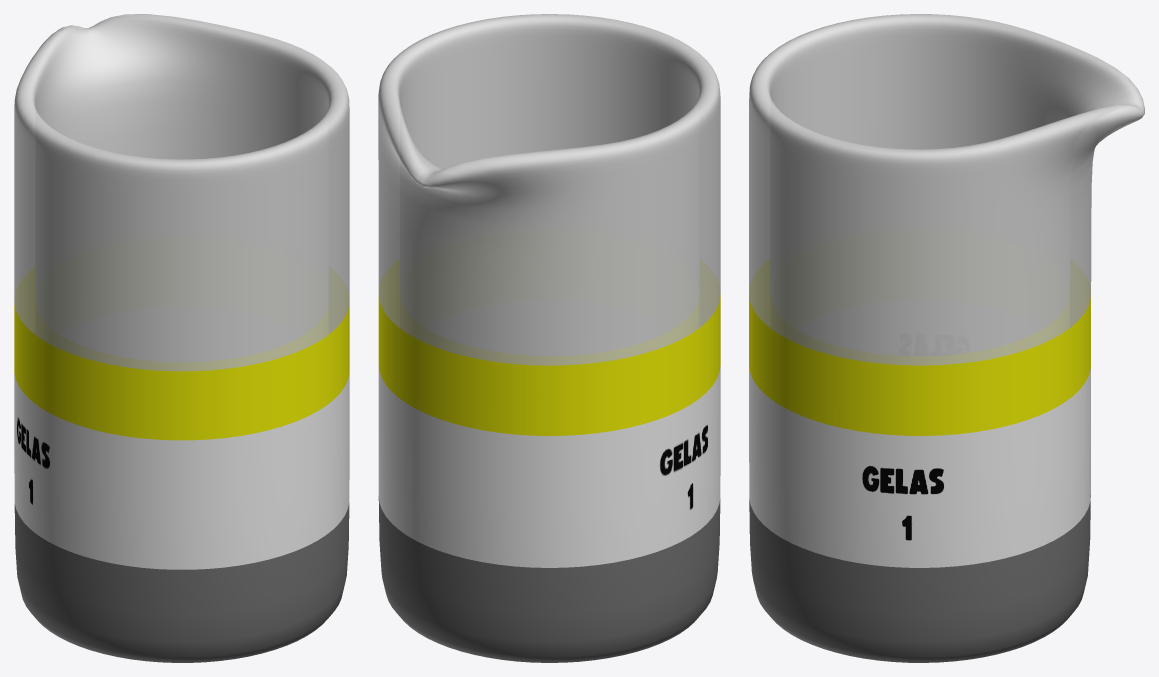
Rendered from gelas1_isi_air.fbx.
3 renders of one model, left to right at view 1: azimuth 30°, elevation 25°; view 2: azimuth 150°, elevation 25°; view 3: azimuth 270°, elevation 25°, orthographic.
Visible parts, largest first — view 1: polySurface1021; view 2: polySurface1021; view 3: polySurface1021.
Boxes of the visible parts, x1,y1,x2,y2 form: polySurface1021: (14,14,349,662); polySurface1021: (378,14,720,662); polySurface1021: (749,14,1144,662).
Size of the model in its own units: 1.08 by 1.82 by 1.25.
4 materials, 1 textured.
